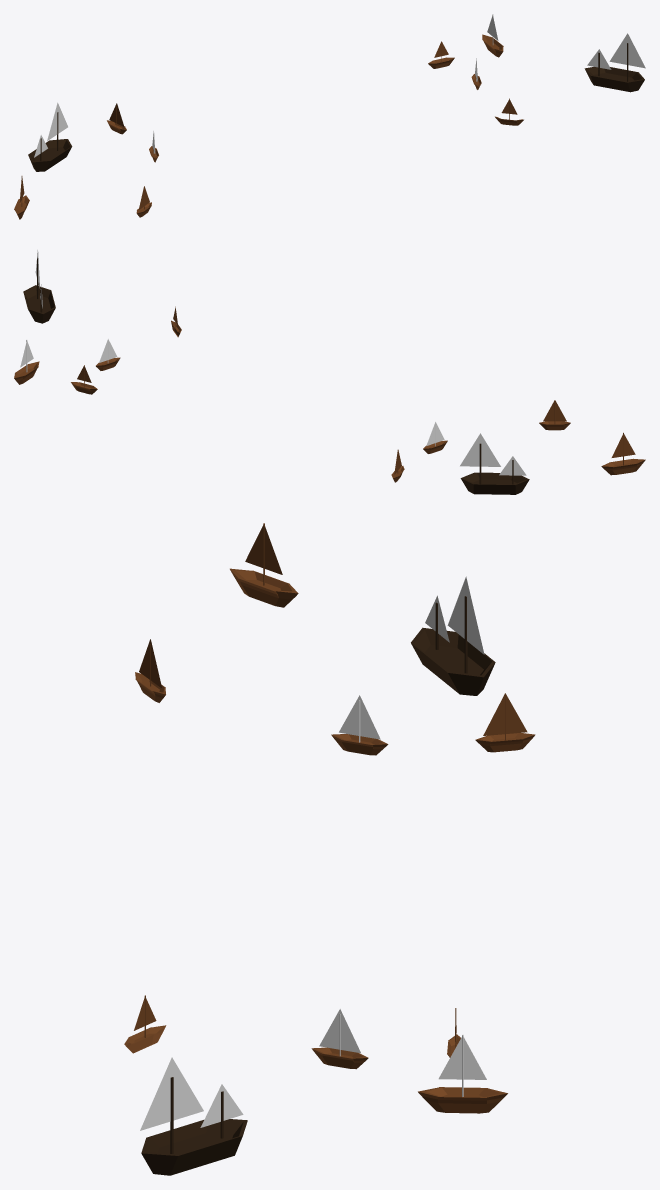
The model's file is barcos.fbx.
3 renders of one model, top to bottom at view 1: azimuth 30°, elevation 25°; view 2: azimuth 150°, elevation 25°; view 3: azimuth 270°, elevation 25°, orthographic. The views are drawn at different scales.
Parts seen in each view (by area): view 1: Plane.020, Plane.019, Cube.028, Cube.008; view 2: Plane.019, Plane.020, Cube.020, Cube.019; view 3: Plane.020, Plane.019, Cube.020, Cube.005, Cube.008, Plane.010, Plane.007, Cube.019, Plane.008.
Boxes of the visible parts, bbox=[...] form: Plane.020: bbox=[584, 33, 645, 92]; Plane.019: bbox=[28, 102, 72, 171]; Cube.028: bbox=[428, 41, 454, 68]; Cube.008: bbox=[107, 103, 126, 134]; Plane.019: bbox=[460, 433, 529, 494]; Plane.020: bbox=[23, 250, 55, 323]; Cube.020: bbox=[601, 432, 645, 475]; Cube.019: bbox=[539, 400, 570, 430]; Plane.020: bbox=[140, 1057, 247, 1175]; Plane.019: bbox=[411, 576, 495, 695]; Cube.020: bbox=[230, 523, 298, 607]; Cube.005: bbox=[418, 1087, 507, 1113]; Cube.008: bbox=[475, 693, 535, 752]; Plane.010: bbox=[438, 1037, 486, 1079]; Plane.007: bbox=[124, 995, 166, 1053]; Cube.019: bbox=[135, 639, 165, 702]; Plane.008: bbox=[319, 1009, 360, 1053].
Bounding box in the file's own units: 89727 × 8230 × 26309.
